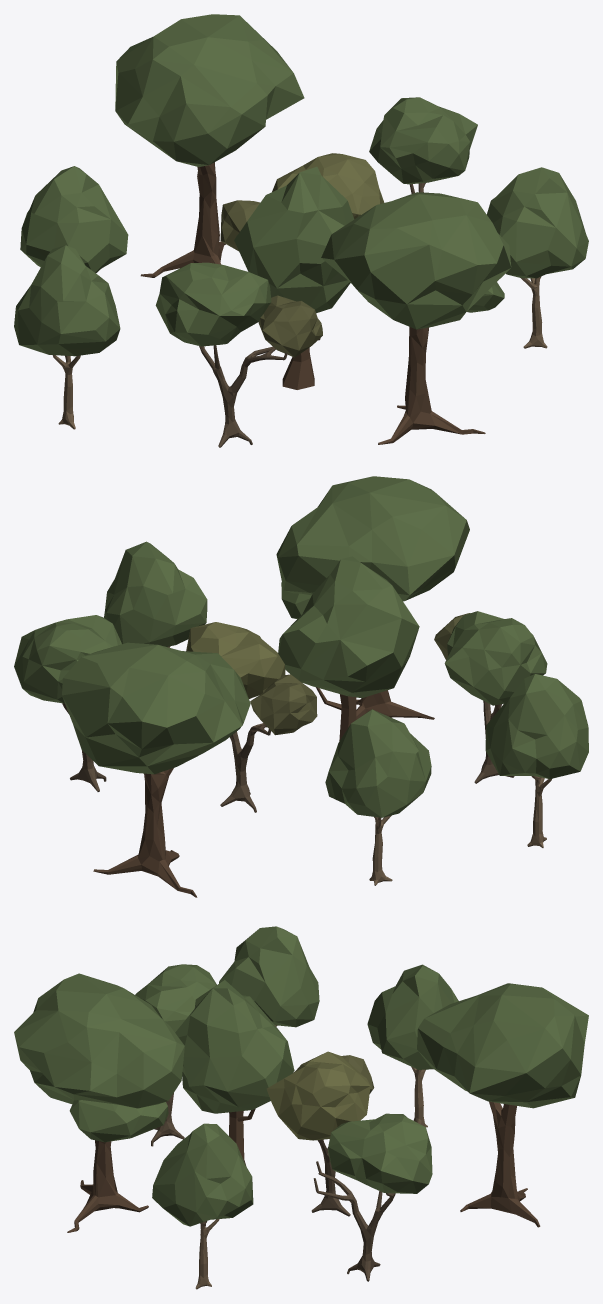
The model's file is SM_Envr_Nature_Tree_Group_03.fbx.
3 views of the same model, one above another, from view 1: azimuth 30°, elevation 25°; view 2: azimuth 150°, elevation 25°; view 3: azimuth 270°, elevation 25° (orthographic). The views are drawn at different scales.
Visible parts, largest first — view 1: SM_Envr_Nature_Tree_Group_03; view 2: SM_Envr_Nature_Tree_Group_03; view 3: SM_Envr_Nature_Tree_Group_03.
Part boxes in pixels (x1,y1,x2,y2): SM_Envr_Nature_Tree_Group_03: [14, 14, 588, 447]; SM_Envr_Nature_Tree_Group_03: [14, 476, 588, 897]; SM_Envr_Nature_Tree_Group_03: [14, 926, 588, 1289].
Size of the model in its own units: 1490 by 644 by 1528.
